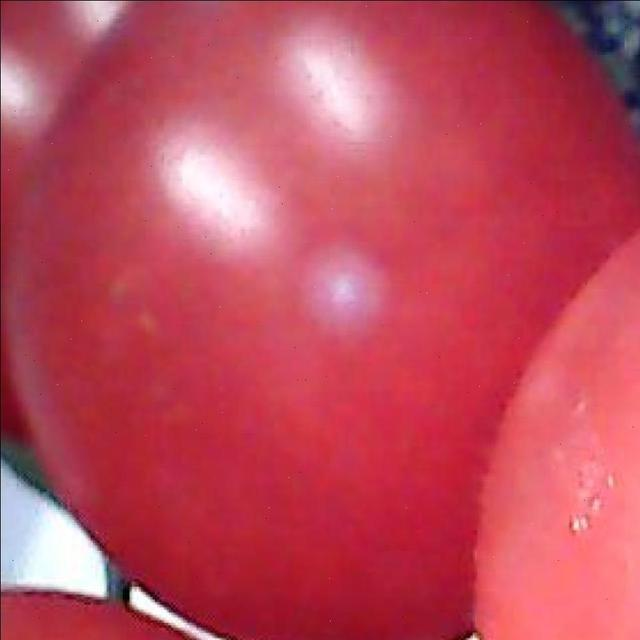Healthy Fruit: (0, 0, 405, 425)
